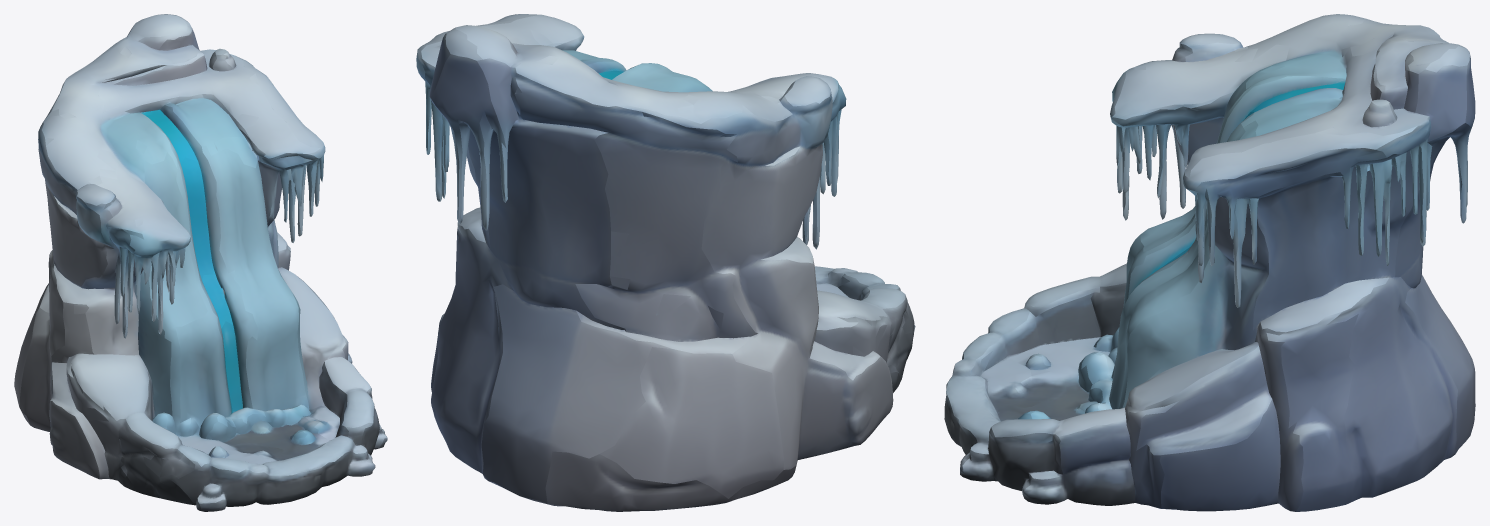
Rendered from ice-waterfall.glb.
3 renders of one model, left to right at view 1: azimuth 30°, elevation 25°; view 2: azimuth 150°, elevation 25°; view 3: azimuth 270°, elevation 25°, orthographic. The views are drawn at different scales.
Visible parts, largest first — view 1: world; view 2: world; view 3: world.
Part boxes in pixels (bbox=[...]): world: bbox=[14, 14, 387, 511]; world: bbox=[416, 14, 915, 511]; world: bbox=[944, 14, 1475, 511].
Size of the model in its own units: 0.1972 by 0.22 by 0.2521.
1 material, 1 textured.
